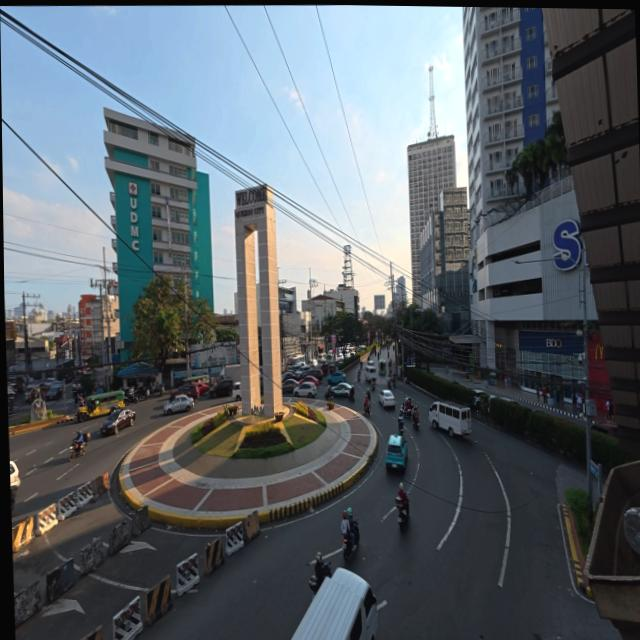Jeepneys: (77, 391, 124, 422), (378, 360, 386, 376)
car: (100, 409, 135, 435), (386, 434, 408, 470), (163, 395, 194, 414), (209, 378, 235, 397), (170, 385, 199, 401), (474, 390, 495, 409), (294, 382, 317, 398), (333, 382, 353, 397), (379, 390, 395, 408), (25, 385, 41, 402), (45, 386, 63, 401), (10, 461, 20, 487), (283, 378, 300, 393), (328, 371, 346, 385), (300, 375, 320, 387), (293, 366, 311, 379), (304, 369, 323, 381), (499, 396, 521, 406), (42, 377, 56, 391), (73, 379, 84, 395), (197, 382, 209, 396), (282, 372, 294, 382), (320, 362, 328, 376), (1, 405, 8, 420), (308, 360, 317, 368)
motorcycle: (343, 519, 359, 561), (396, 497, 409, 531), (68, 439, 87, 461), (310, 575, 323, 599), (134, 383, 150, 400), (351, 518, 360, 546), (125, 388, 137, 404), (152, 383, 165, 396), (10, 487, 16, 515), (404, 403, 414, 419), (363, 399, 371, 416), (397, 413, 403, 434), (412, 410, 418, 429), (325, 390, 334, 402), (401, 396, 408, 410), (409, 405, 416, 418), (399, 402, 405, 416), (350, 387, 355, 402), (367, 389, 372, 401), (404, 375, 410, 384), (387, 358, 392, 368), (392, 375, 396, 387), (388, 379, 392, 390), (372, 379, 376, 390), (357, 371, 361, 381), (378, 351, 381, 359)
vans: (291, 569, 378, 639), (429, 401, 470, 436), (363, 360, 378, 381), (286, 355, 305, 370), (233, 381, 242, 401)
